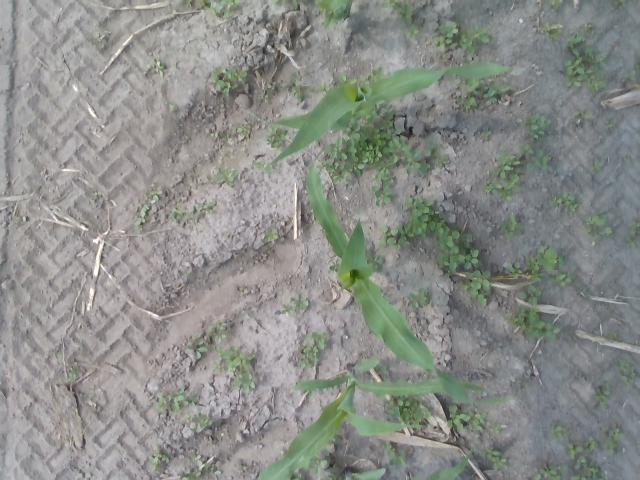Maize: (307, 160, 488, 394), (258, 358, 512, 480), (243, 62, 511, 166), (344, 447, 474, 480), (319, 0, 348, 21)
Weeds: (404, 196, 484, 269), (321, 136, 420, 184), (508, 306, 560, 341), (525, 114, 551, 142), (494, 152, 520, 179), (461, 282, 487, 306), (586, 46, 608, 72), (538, 246, 558, 273), (230, 373, 256, 393), (534, 462, 561, 480), (186, 338, 208, 360), (220, 346, 240, 370), (517, 284, 541, 304), (502, 174, 520, 200), (372, 185, 394, 206), (267, 127, 289, 148), (208, 321, 228, 344), (565, 34, 585, 57), (528, 149, 548, 171), (378, 225, 398, 247), (466, 270, 490, 287), (218, 67, 247, 81), (409, 288, 429, 308), (152, 445, 168, 470), (446, 414, 471, 430), (484, 81, 510, 96), (307, 332, 328, 350), (234, 353, 255, 371), (545, 22, 562, 42), (564, 59, 584, 76), (461, 28, 474, 54), (216, 168, 238, 183), (426, 138, 442, 158), (552, 273, 574, 287), (440, 20, 458, 37), (472, 24, 489, 42), (173, 388, 188, 408), (382, 120, 402, 135), (156, 393, 172, 411), (368, 250, 382, 270), (192, 413, 212, 427), (368, 173, 396, 183), (486, 178, 502, 195), (585, 464, 602, 480), (212, 5, 234, 17), (480, 448, 500, 461), (310, 460, 326, 476), (584, 436, 600, 452), (434, 36, 451, 51), (458, 80, 479, 92), (212, 74, 226, 92), (506, 263, 522, 278), (254, 160, 274, 172), (364, 125, 381, 139), (414, 408, 432, 421), (566, 73, 584, 86), (237, 123, 252, 138), (299, 353, 313, 369), (405, 24, 419, 40), (586, 215, 608, 225), (196, 202, 216, 213), (568, 442, 580, 460), (588, 80, 606, 92), (150, 184, 162, 202), (464, 97, 478, 112), (294, 294, 309, 308), (604, 438, 618, 453), (399, 224, 414, 238), (348, 123, 362, 138), (291, 86, 303, 103), (338, 74, 358, 84), (574, 107, 592, 118), (224, 82, 238, 96), (452, 36, 466, 50), (493, 458, 508, 471), (595, 387, 610, 400), (518, 146, 534, 158), (401, 406, 413, 422), (608, 428, 624, 440), (182, 470, 201, 480), (185, 455, 202, 466), (219, 0, 242, 8), (530, 270, 543, 284), (573, 456, 586, 470), (264, 229, 278, 242), (480, 126, 492, 140), (528, 257, 540, 271), (387, 406, 401, 418), (552, 426, 566, 438), (438, 154, 450, 168), (170, 209, 182, 223), (281, 80, 302, 88), (372, 66, 384, 80), (614, 359, 629, 370), (472, 413, 487, 424), (389, 457, 407, 466), (326, 12, 336, 28), (562, 192, 575, 204), (328, 259, 339, 273), (382, 108, 397, 118), (584, 23, 594, 38), (571, 118, 581, 133), (550, 196, 562, 208), (628, 222, 640, 234), (69, 364, 79, 378), (398, 396, 412, 406), (622, 376, 634, 387), (582, 69, 594, 80), (590, 160, 603, 170), (508, 214, 516, 230), (386, 442, 395, 456), (626, 236, 636, 248), (190, 392, 198, 407), (446, 268, 458, 278), (421, 160, 431, 172), (156, 61, 164, 76), (359, 74, 371, 84), (469, 423, 483, 431), (198, 0, 212, 8), (398, 12, 412, 20), (282, 305, 294, 314), (318, 84, 330, 93), (135, 217, 143, 230), (212, 362, 222, 372), (551, 0, 561, 10), (624, 70, 634, 80), (292, 70, 302, 80), (516, 222, 524, 234), (398, 236, 410, 244), (492, 424, 502, 433), (177, 202, 186, 212), (140, 205, 148, 216), (558, 254, 564, 268), (203, 462, 210, 474), (382, 0, 394, 7), (568, 204, 578, 212), (448, 404, 458, 412), (380, 166, 390, 174), (504, 229, 514, 237), (606, 120, 614, 129), (18, 215, 28, 222), (168, 104, 178, 111), (192, 333, 203, 339), (172, 405, 183, 411), (570, 474, 581, 480), (311, 354, 319, 362), (609, 332, 617, 340), (538, 245, 546, 253), (522, 382, 530, 390), (596, 70, 604, 78), (268, 82, 276, 90), (184, 0, 192, 8), (501, 221, 508, 230), (606, 227, 612, 237), (488, 97, 498, 103), (561, 464, 567, 474), (600, 400, 606, 410), (392, 0, 402, 6), (455, 98, 463, 105), (54, 352, 61, 360), (216, 347, 224, 354), (184, 211, 192, 218), (260, 94, 269, 100), (402, 4, 411, 10), (586, 226, 592, 234), (302, 346, 310, 352), (396, 450, 404, 456), (94, 191, 100, 199), (211, 132, 219, 138), (630, 367, 635, 376), (185, 415, 192, 421), (614, 5, 624, 9), (312, 346, 318, 352), (596, 235, 602, 241), (636, 64, 640, 73), (142, 215, 146, 224), (318, 10, 327, 14), (605, 382, 610, 389), (240, 288, 244, 296), (184, 270, 190, 275), (191, 428, 197, 433), (330, 474, 336, 479), (602, 427, 608, 432), (625, 156, 630, 162), (215, 470, 222, 474), (273, 0, 280, 4), (413, 401, 418, 406), (289, 296, 293, 302), (146, 194, 150, 200), (150, 199, 156, 203), (337, 477, 343, 480), (637, 444, 640, 450), (582, 476, 586, 480), (98, 38, 101, 42), (637, 52, 640, 56), (164, 102, 168, 104)
